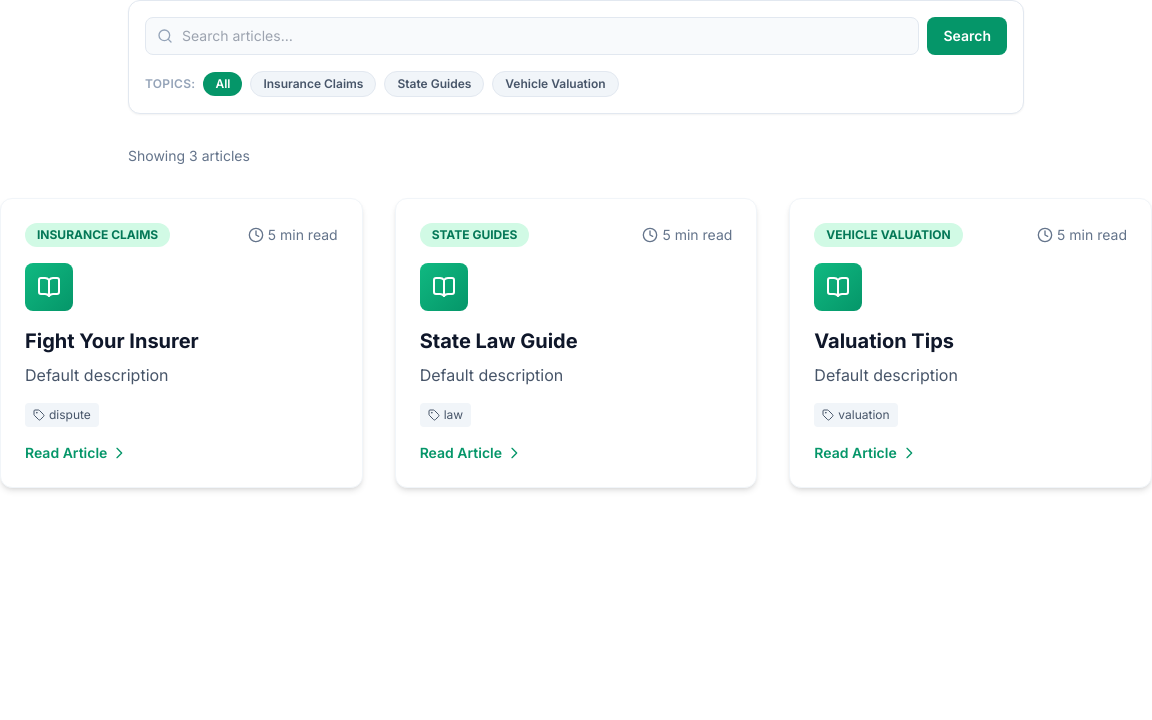
Test case: KBClientPage › shows "No articles found" when no articles match
Type "zzznomatch" into the field with placeholder "Search articles…". click: (532, 36)
box: [145,17,920,55]
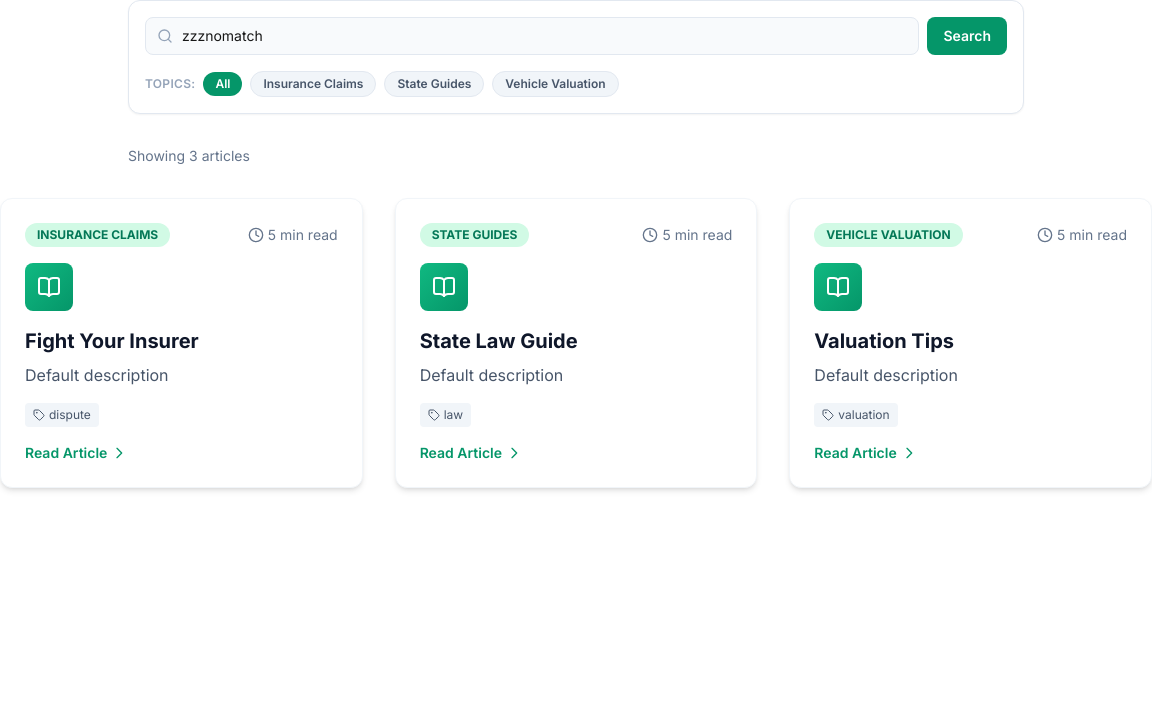
Submit the form "Search", box [145,17,1007,55]
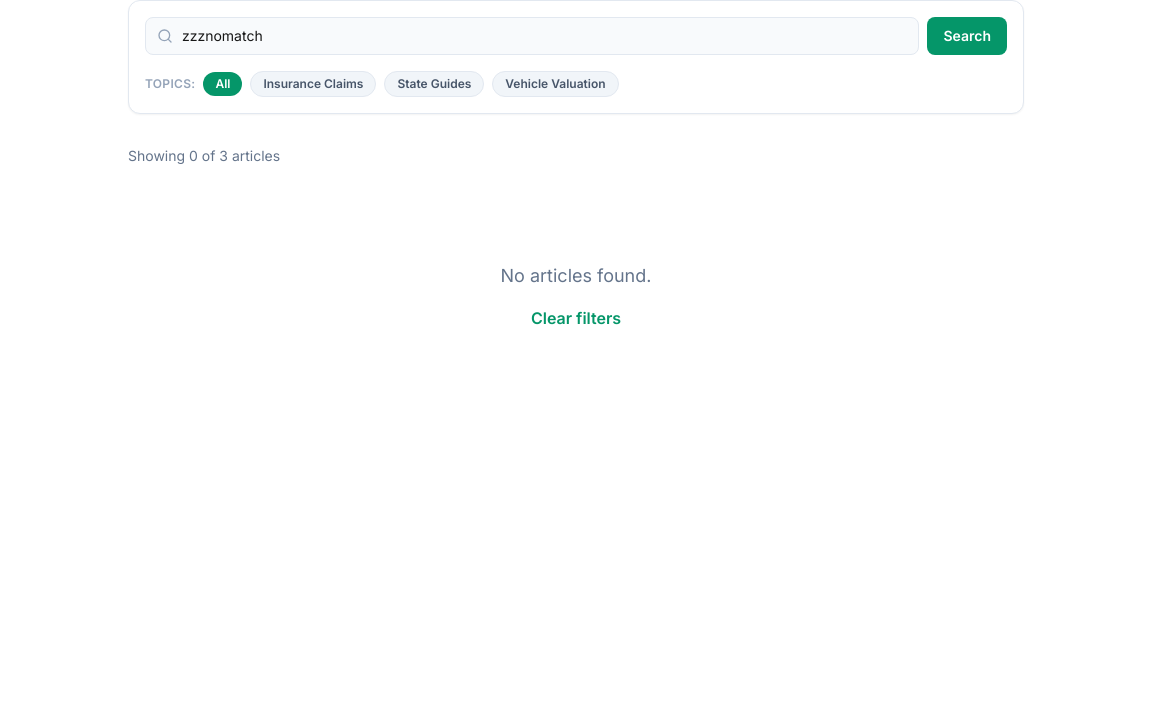
Now the text "No articles found." is shown, box [500,265,652,286]
